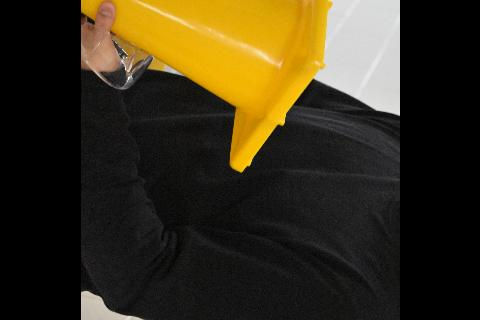cone: (80, 0, 330, 172)
